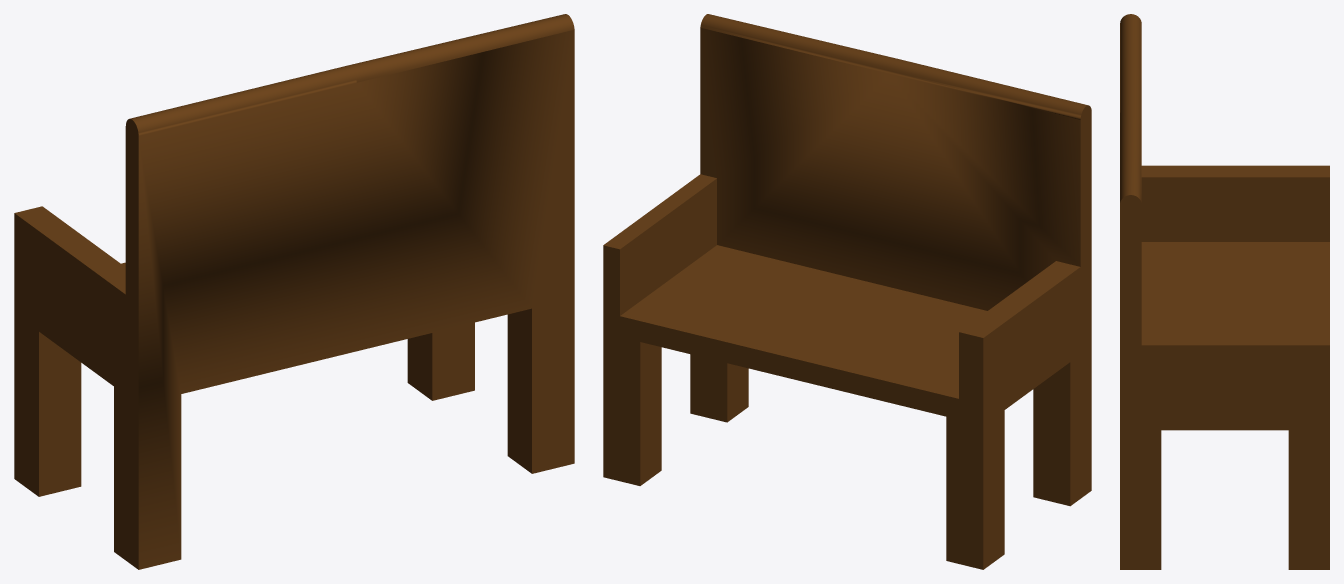
The picture shows the model from 3 angles, left to right: view 1: azimuth 30°, elevation 25°; view 2: azimuth 150°, elevation 25°; view 3: azimuth 270°, elevation 25°; orthographic projection. The views are drawn at different scales.
Visible parts, largest first — view 1: mesh1_mesh1-geometry; view 2: mesh1_mesh1-geometry; view 3: mesh1_mesh1-geometry.
Part boxes in pixels (x1,y1,x2,y2): mesh1_mesh1-geometry: (14, 14, 574, 569); mesh1_mesh1-geometry: (603, 14, 1091, 569); mesh1_mesh1-geometry: (1120, 14, 1329, 569).
Size of the model in its own units: 0.6745 by 0.6588 by 0.3331.
